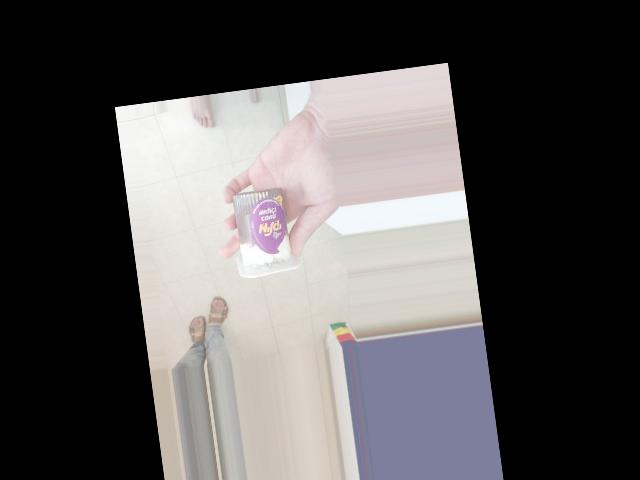milky: (228, 183, 293, 268)
